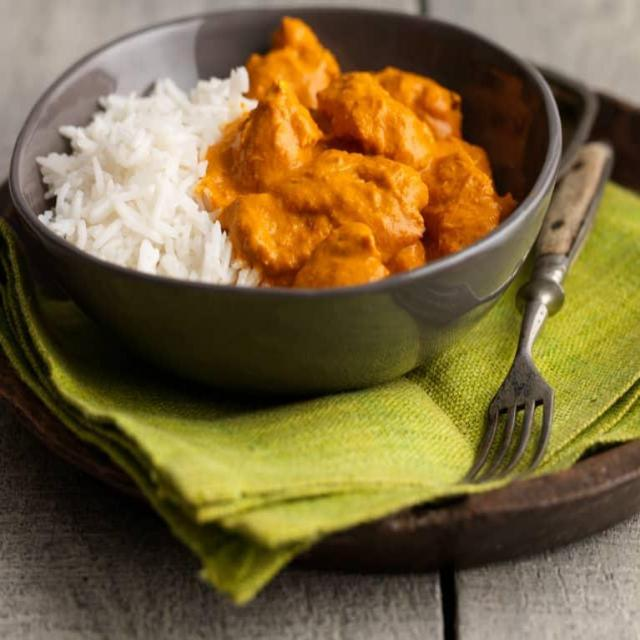chicken: (221, 24, 506, 277)
rice: (47, 78, 241, 273)
